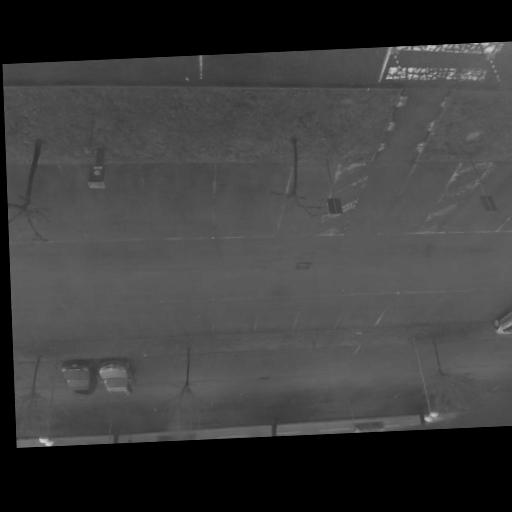busy: (94, 358, 139, 395), (55, 358, 101, 393), (493, 299, 512, 335)
free: (207, 156, 292, 244), (146, 157, 218, 243), (12, 159, 81, 244), (78, 158, 144, 244), (468, 157, 512, 226), (31, 309, 91, 345), (265, 343, 317, 380), (356, 340, 410, 371), (78, 313, 128, 343), (178, 351, 223, 384), (137, 354, 179, 388), (314, 343, 362, 372), (222, 348, 264, 381), (121, 313, 168, 341), (436, 300, 482, 327), (453, 338, 495, 362), (166, 317, 213, 337), (14, 361, 43, 392), (213, 313, 254, 334), (257, 309, 293, 330), (300, 309, 338, 328), (235, 390, 269, 411), (209, 391, 243, 412), (290, 392, 322, 412), (343, 307, 378, 324), (385, 306, 419, 323), (266, 392, 296, 411)
